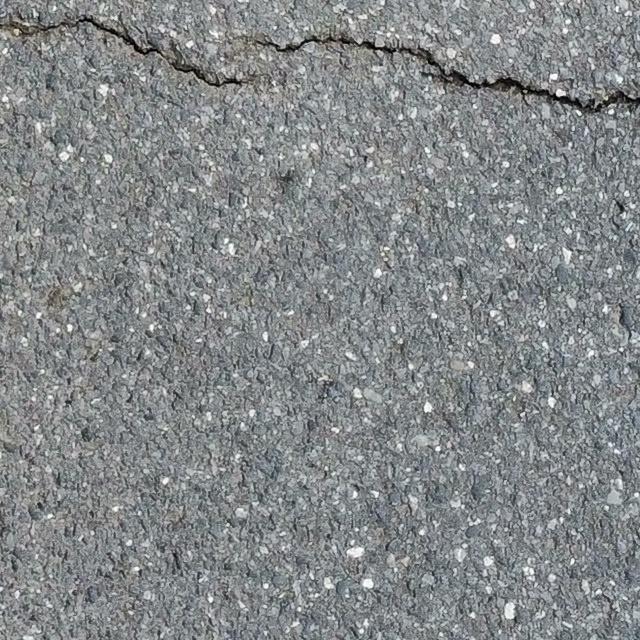TransverseCrack: (228, 34, 640, 113), (1, 18, 247, 89)
